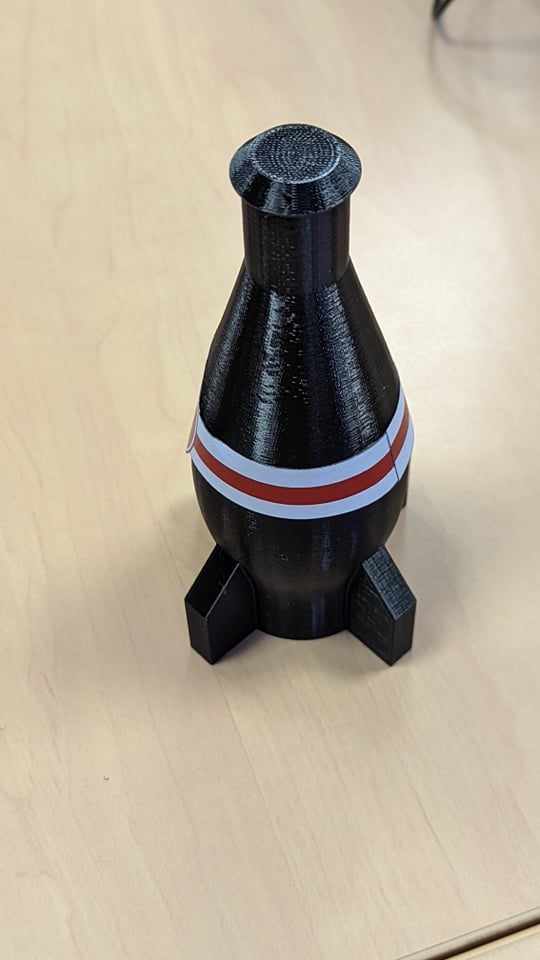bottle: (157, 114, 425, 693)
